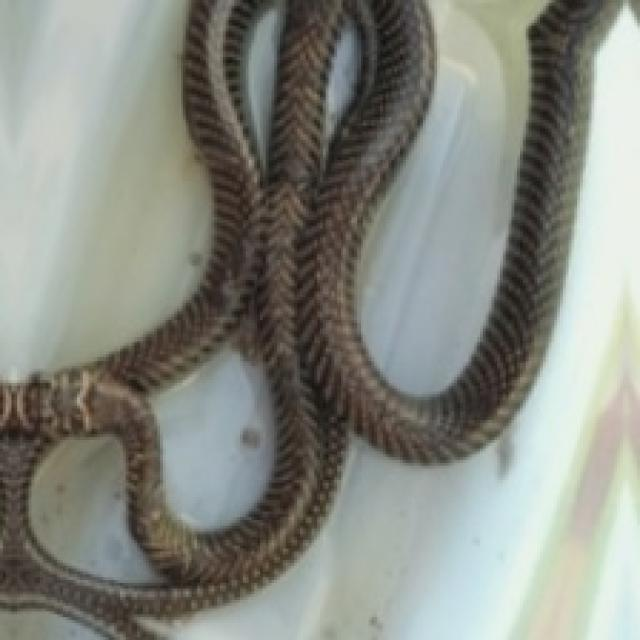paradise tree snake: (171, 6, 637, 637), (0, 3, 166, 277)
